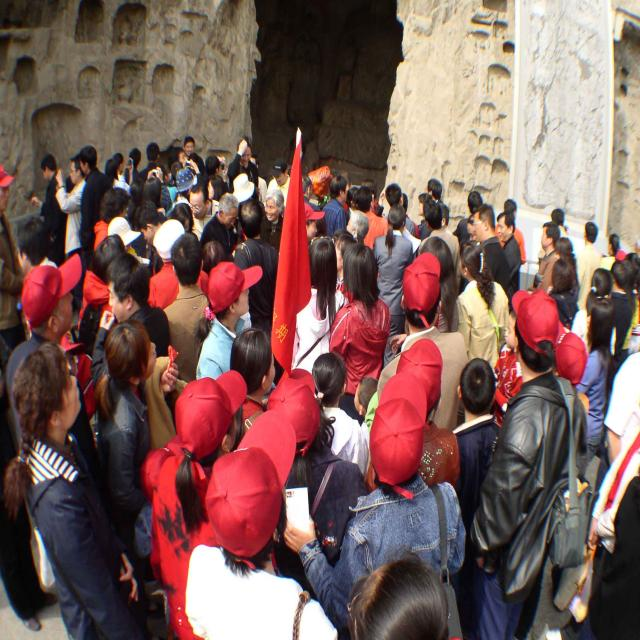body: (279, 368, 472, 640), (467, 288, 592, 640), (7, 340, 146, 638), (183, 406, 339, 640), (149, 368, 250, 639), (5, 251, 106, 502), (264, 366, 369, 602), (539, 445, 640, 640), (93, 316, 181, 524), (376, 251, 471, 434), (362, 338, 461, 496), (450, 358, 503, 640), (327, 240, 392, 427), (89, 252, 172, 397), (549, 318, 640, 445), (94, 139, 232, 214), (342, 547, 453, 640), (386, 235, 461, 355), (306, 351, 370, 484), (195, 261, 263, 380), (290, 236, 348, 375), (162, 231, 210, 384), (371, 203, 415, 369), (55, 329, 101, 487), (455, 238, 509, 369), (328, 162, 414, 242), (232, 198, 280, 338), (576, 298, 613, 478), (486, 308, 524, 467), (0, 165, 31, 354), (145, 219, 209, 310), (76, 232, 128, 342), (230, 328, 276, 451), (54, 153, 86, 310), (569, 266, 618, 358), (417, 198, 462, 298), (30, 153, 68, 270), (472, 203, 513, 296), (77, 144, 108, 254), (170, 215, 223, 275), (609, 259, 633, 378), (574, 221, 604, 312), (15, 213, 58, 276), (198, 192, 240, 254), (526, 221, 561, 295), (93, 186, 132, 252), (546, 257, 580, 331), (355, 185, 390, 252), (493, 199, 527, 267), (135, 199, 165, 275), (24, 216, 66, 269), (186, 182, 222, 243), (497, 211, 521, 302), (107, 214, 150, 264), (621, 252, 640, 362), (451, 190, 485, 250), (382, 182, 416, 237), (227, 138, 259, 195), (333, 233, 358, 304), (322, 174, 349, 238), (418, 177, 444, 242), (259, 188, 286, 249), (555, 236, 580, 298), (301, 175, 324, 236), (263, 158, 291, 208), (352, 377, 379, 427), (138, 142, 166, 186), (107, 152, 134, 197), (303, 202, 327, 246), (249, 154, 268, 208), (172, 167, 194, 210), (599, 232, 622, 272), (346, 210, 370, 246), (122, 146, 142, 186), (550, 207, 570, 240), (417, 192, 433, 226), (184, 136, 195, 159)
